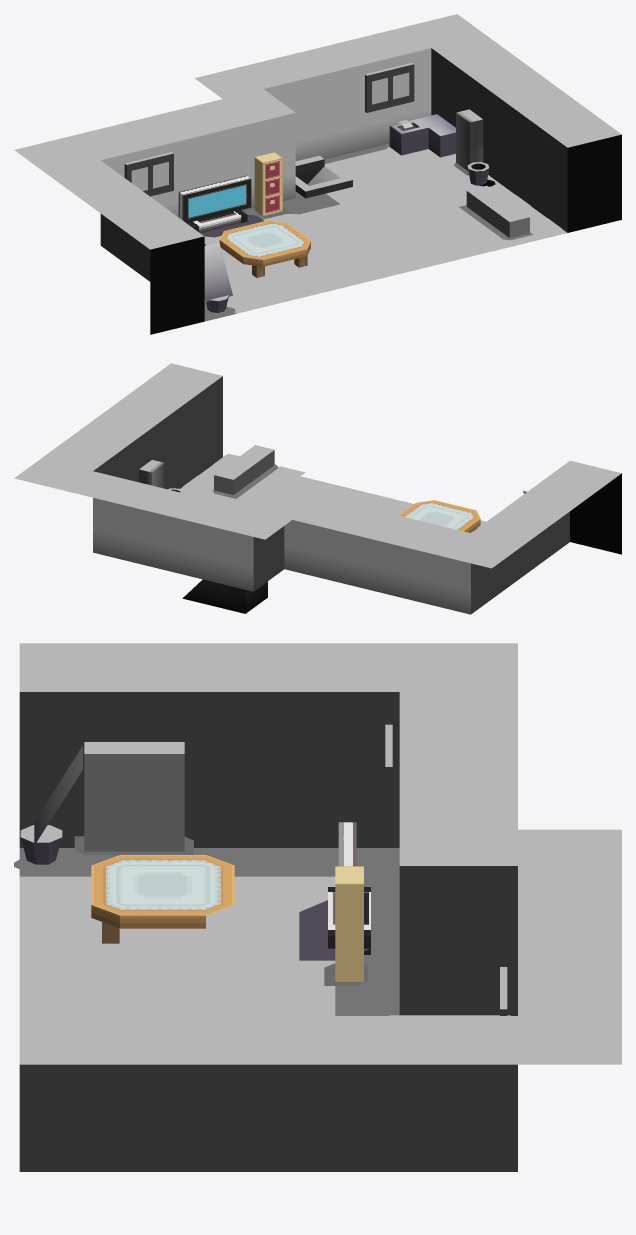
Rendered from striaton_building_2.obj.
3 renders of one model, top to bottom at view 1: azimuth 30°, elevation 25°; view 2: azimuth 150°, elevation 25°; view 3: azimuth 270°, elevation 25°, orthographic. The views are drawn at different scales.
Bounding box in the file's own units: 361 × 85.8 × 220.
